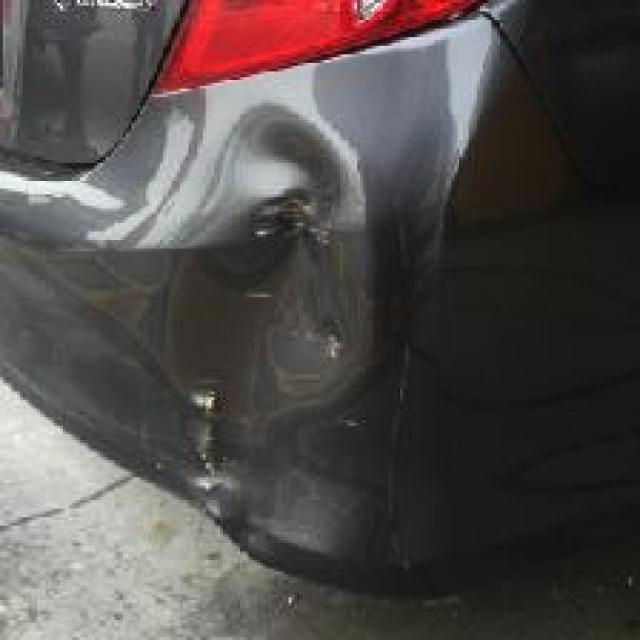minor: (195, 398, 234, 526)
moderate: (160, 117, 377, 420)
